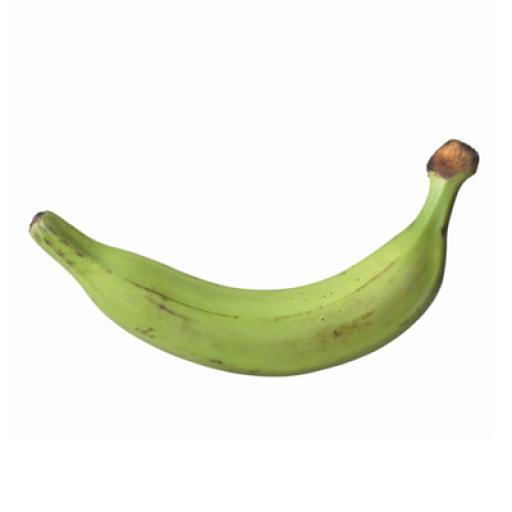banana-unripe: (7, 129, 512, 373)
